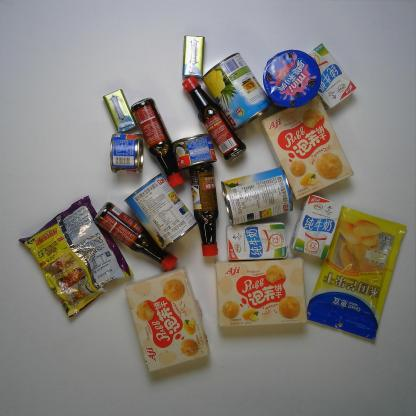Canned Food: (198, 50, 276, 136), (122, 169, 199, 252), (218, 165, 296, 228), (167, 130, 219, 173), (107, 130, 145, 176)
Dessert: (259, 92, 356, 202), (121, 264, 213, 376), (212, 252, 310, 330), (262, 46, 323, 110)
Dried Fruit: (305, 202, 409, 344)
Gum: (100, 86, 140, 136), (179, 30, 208, 82)
Instant Noodles: (14, 192, 135, 321)
Milk: (288, 190, 344, 262), (307, 40, 358, 113), (223, 219, 289, 263)
Seasoner: (91, 200, 180, 273), (180, 74, 249, 162), (129, 95, 183, 188), (187, 161, 221, 259)
